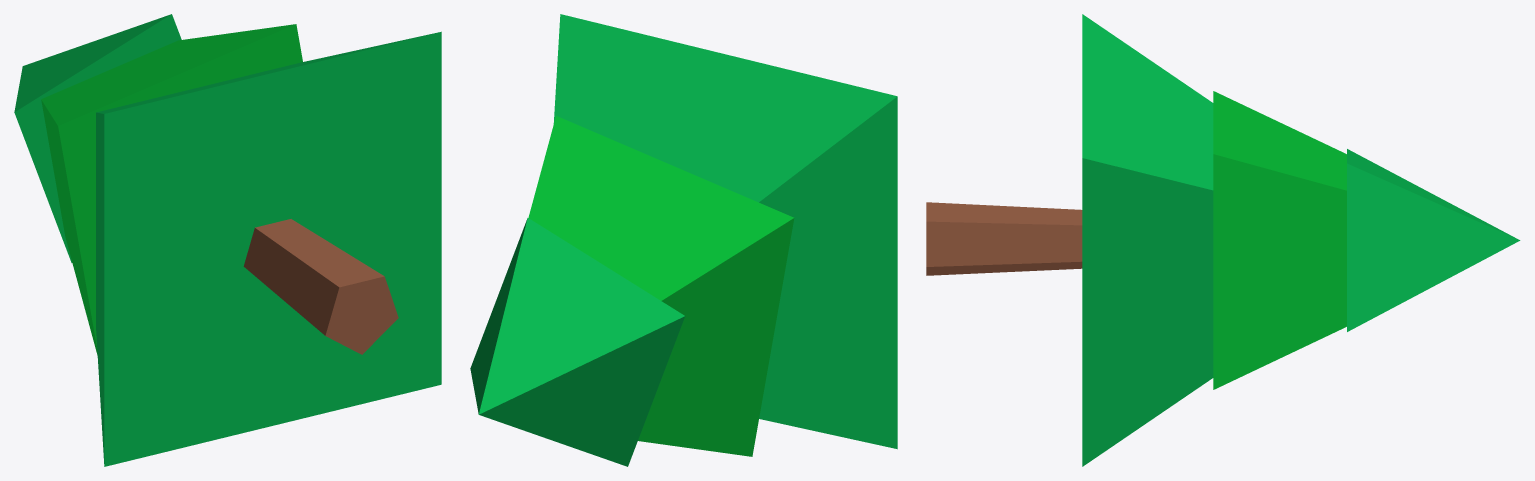
Rendered from evergreen_tree.dae.
The picture shows the model from 3 angles, left to right: view 1: azimuth 30°, elevation 25°; view 2: azimuth 150°, elevation 25°; view 3: azimuth 270°, elevation 25°; orthographic projection. The views are drawn at different scales.
Visible parts, largest first — view 1: Plane, Plane.001, Circle, Plane.002; view 2: Plane, Plane.001, Plane.002; view 3: Plane, Plane.001, Plane.002, Circle.
Part boxes in pixels (box(x1,y1,x2,y2)): Plane: box(96, 31, 441, 466); Plane.001: box(41, 24, 302, 355); Circle: box(243, 219, 398, 354); Plane.002: box(14, 14, 181, 262); Plane: box(553, 14, 897, 449); Plane.001: box(528, 116, 794, 456); Plane.002: box(470, 218, 684, 466); Plane: box(1082, 14, 1213, 466); Plane.001: box(1213, 91, 1346, 389); Plane.002: box(1347, 149, 1520, 331); Circle: box(926, 202, 1082, 275).
Size of the model in its own units: 4.37 by 7.62 by 4.37.
